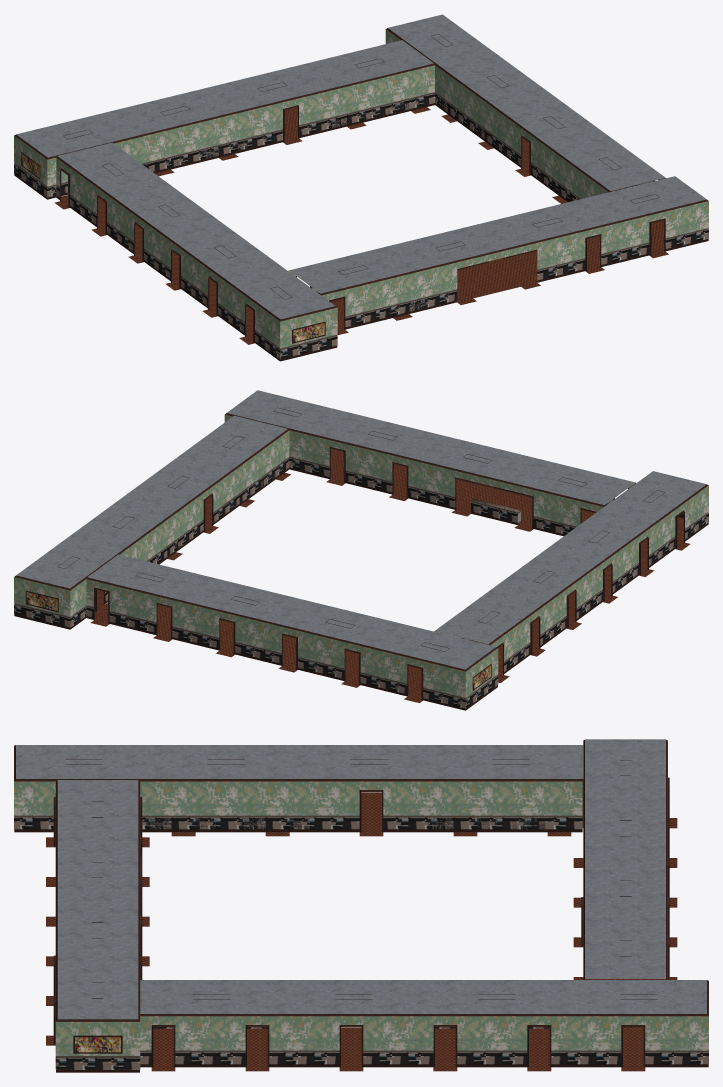
Rendered from Appartmentsv1.fbx.
3 views of the same model, one above another, from view 1: azimuth 30°, elevation 25°; view 2: azimuth 150°, elevation 25°; view 3: azimuth 270°, elevation 25° (orthographic). The views are drawn at different scales.
Parts seen in each view (by area): view 1: Material2_7.004, Material2_7.002, Material2_7.003, Material2_7.001, Material2_4.002, Material2_4.004, Material2_4.003, Material2_4.001, Material2_5.004, Material2.002, Material2_2.003, Material2_2.004 (+10 smaller); view 2: Material2_7.004, Material2_7.002, Material2_7.003, Material2_7.001, Material2_4.002, Material2_4.004, Material2_4.001, Material2_4.003, Material2_2.002, Material2.002, Material2_5.004, Material2_5.002 (+10 smaller); view 3: Material2_7.004, Material2_7.002, Material2_7.003, Material2_7.001, Material2_4.001, Material2_4.003, Material2.003, Material2.001, Material2_5.001, Material2_2.001, Material2_2.003, Material2_2.004 (+9 smaller).
Boxes of the visible parts, x1,y1,x2,y2 form: Material2_7.004: (289,176,706,293); Material2_7.002: (16,40,433,157); Material2_7.003: (57,142,334,319); Material2_7.001: (388,14,665,190); Material2_4.002: (14,65,434,186); Material2_4.004: (288,201,708,316); Material2_4.003: (56,158,337,348); Material2_4.001: (385,29,665,198); Material2_5.004: (331,220,668,335); Material2.002: (14,93,434,197); Material2_2.003: (56,156,337,361); Material2_2.004: (288,194,708,330); Material2_7.004: (227,390,635,505); Material2_7.002: (87,554,495,669); Material2_7.003: (434,471,706,644); Material2_7.001: (16,415,287,588); Material2_4.002: (86,579,498,697); Material2_4.004: (224,414,635,526); Material2_4.001: (14,431,289,616); Material2_4.003: (434,485,708,661); Material2_2.002: (86,572,497,710); Material2.002: (86,607,498,708); Material2_5.004: (278,449,594,531); Material2_5.002: (90,603,422,702); Material2_7.004: (57,780,138,1019); Material2_7.002: (585,739,665,978); Material2_7.003: (16,745,583,778); Material2_7.001: (140,980,706,1013); Material2_4.001: (140,1016,708,1050); Material2_4.003: (14,781,582,815); Material2.003: (14,817,582,829); Material2.001: (140,1027,708,1064); Material2_5.001: (151,1027,645,1071); Material2_2.001: (140,980,708,1067); Material2_2.003: (14,745,582,832); Material2_2.004: (53,780,142,1072).
Bounding box in the file's own units: 1241 × 109 × 1294.
